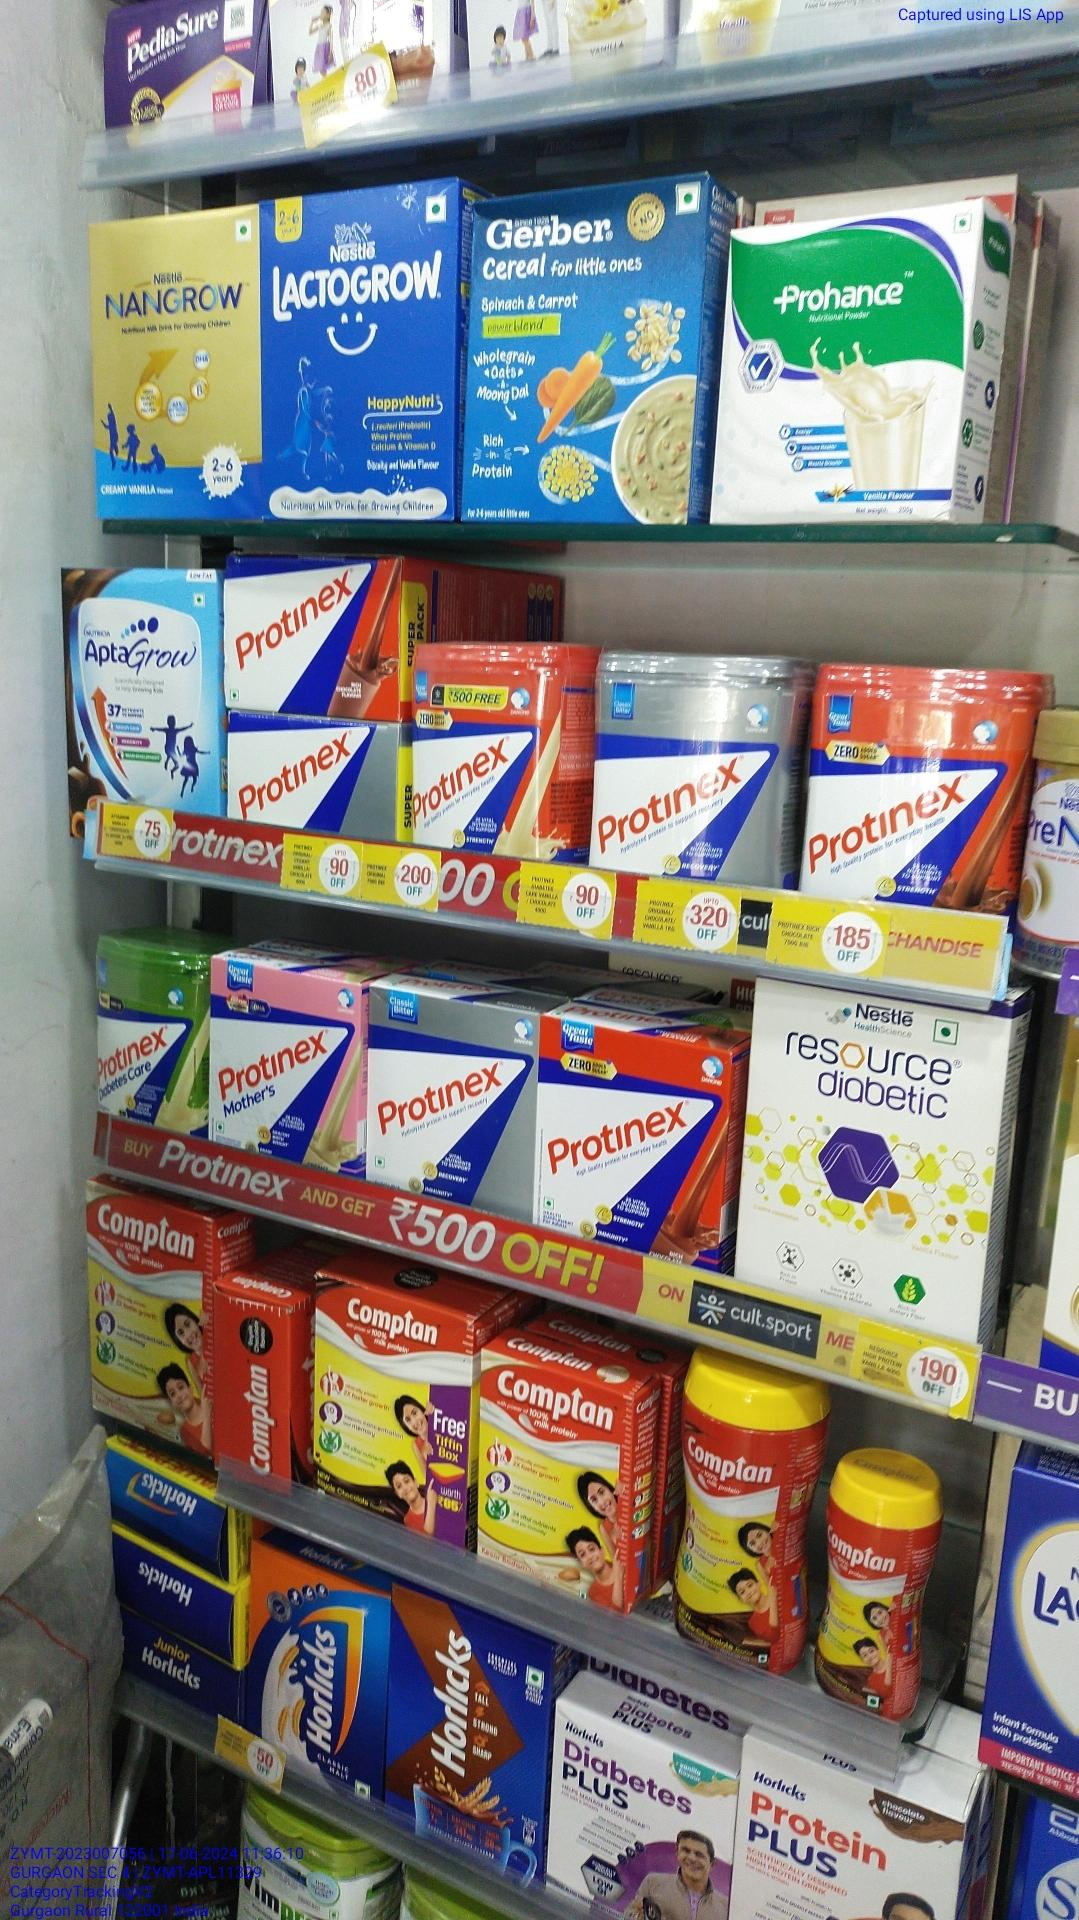COMPLAN_CHOCOLATE_200_GMS_JAR: (820, 1451, 929, 1713)
COMPLAN_CHOCOLATE_500_GMS_JAR: (677, 1354, 811, 1665)
COMPLAN_CHOCOLATE_500_GMS_PACK: (315, 1273, 467, 1535)
COMPLAN_KESAR_BADAM_500_GMS_PACK: (481, 1350, 625, 1602), (86, 1179, 210, 1439)
HORLICK_CHOCOLATE_500_G_PACK: (393, 1617, 549, 1836)
HORLICK_CLASSIC_MALT_500_G_PACK: (249, 1557, 380, 1796)
PROTINEX_CHOCOLATE_400_G_JAR: (803, 661, 1017, 895)
PROTINEX_ORIGINAL_400_G_JAR: (594, 651, 791, 884)
PROTINEX_VANILLA_400_G_JAR: (414, 644, 554, 852)
